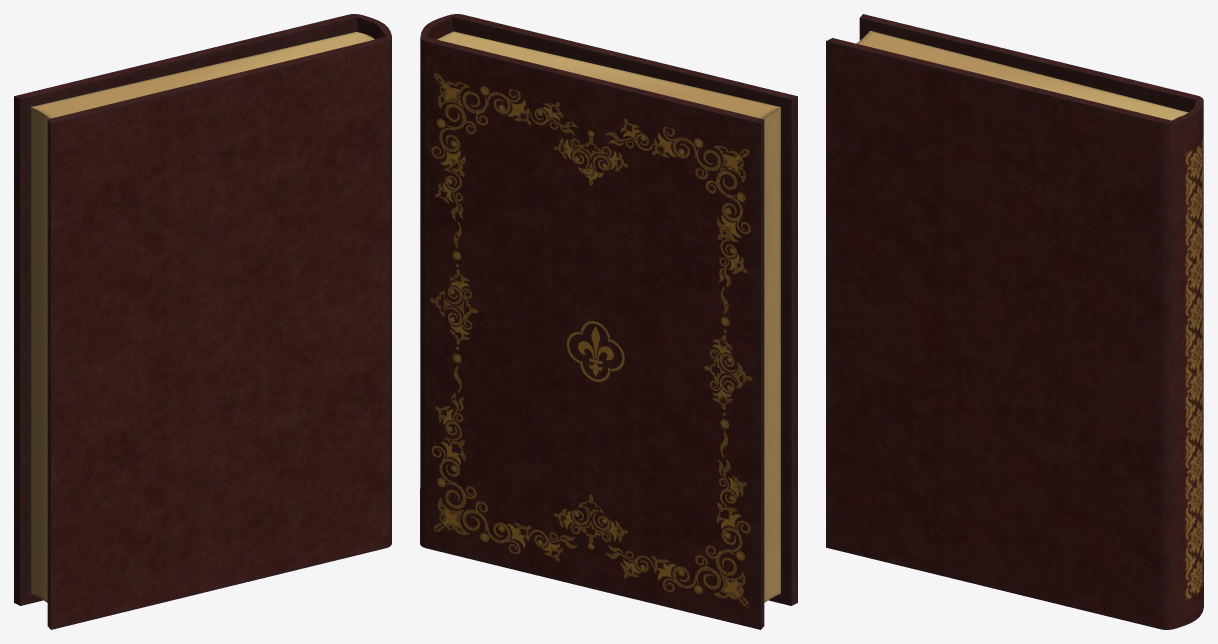
File: vintage-book-optimized.glb
3 renders of one model, left to right at view 1: azimuth 30°, elevation 25°; view 2: azimuth 150°, elevation 25°; view 3: azimuth 330°, elevation 25°, orthographic.
Visible parts, largest first — view 1: SM_book_1; view 2: SM_book_1; view 3: SM_book_1.
Part boxes in pixels (left/top/right/bottom): SM_book_1: left=14, top=14, right=391, bottom=629; SM_book_1: left=420, top=14, right=797, bottom=629; SM_book_1: left=826, top=14, right=1203, bottom=629.
Size of the model in its own units: 0.2044 by 0.2813 by 0.0373.
1 material, 1 textured.
